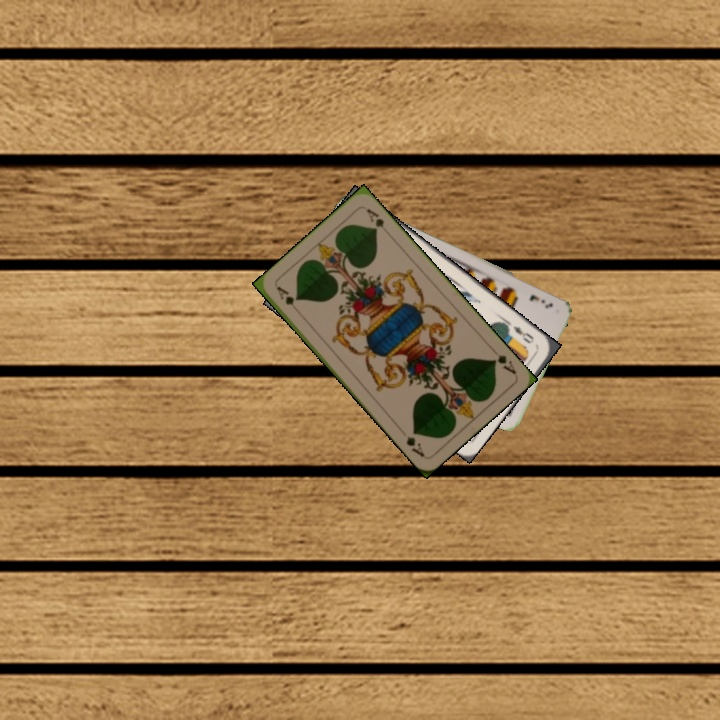E7: (525, 290, 555, 311)
EO: (509, 322, 537, 346)
GA: (487, 344, 519, 377), (272, 282, 303, 316)
